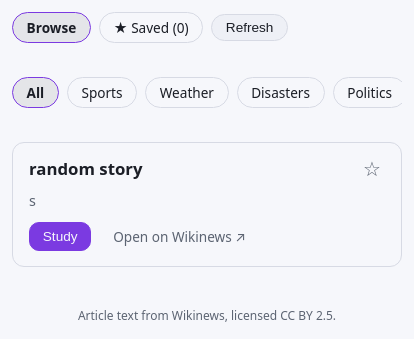
Test: MediaView — topics › the Saved list has no topic picker
Check: the heading "random story" is shown, box [29,157,142,180]
Click the tab "★ Saved (0)": x=151, y=27 [99,12,203,43]
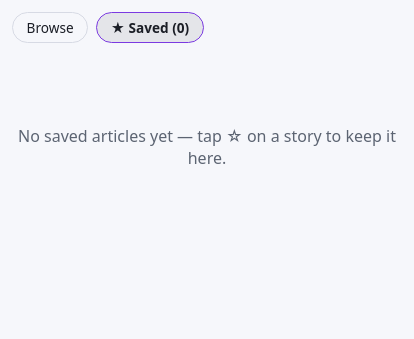
Check: the button "Sports" is gone
